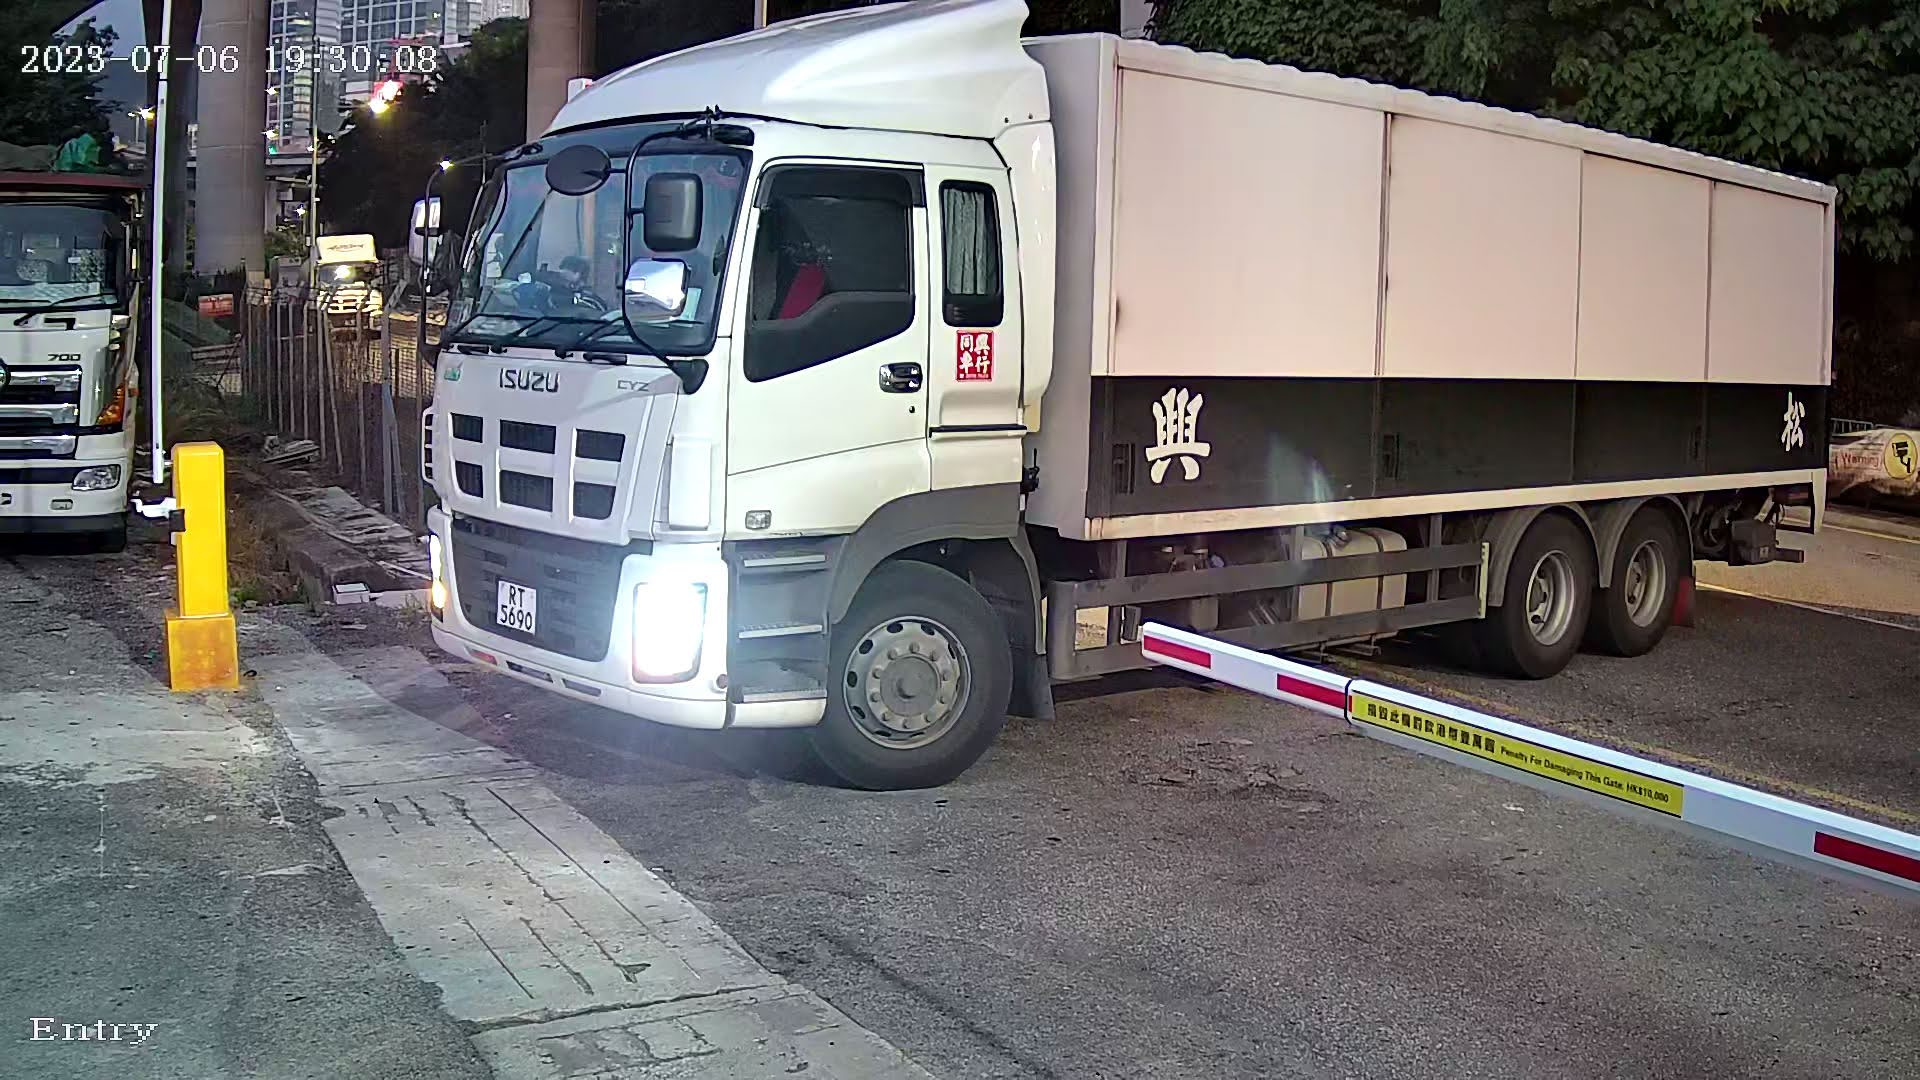truck: (369, 1, 1878, 799)
